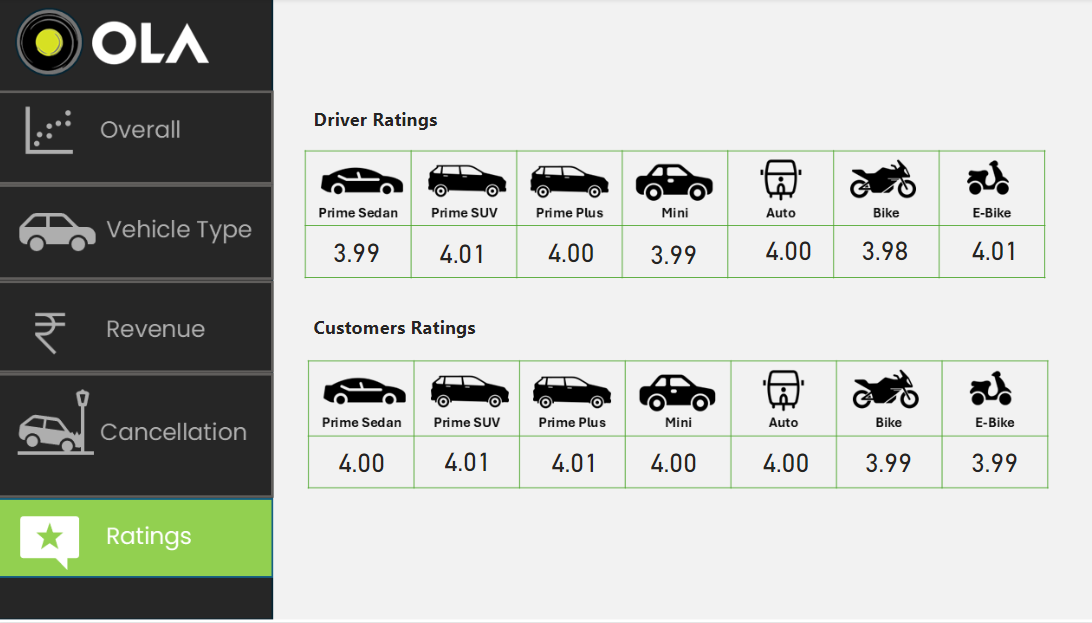

The page's visual inventory and layout, read from the dashboard file:
{"tool":"powerbi","page":{"name":"Ratings","canvas":[1280,720],"ordinal":4},"visuals":[{"type":"actionButton","box":[0,106.8,323.9,108.6],"z":0},{"type":"actionButton","box":[0,215.4,323.9,110.3],"z":1000},{"type":"actionButton","box":[0,325.7,323.9,106.8],"z":2000},{"type":"actionButton","box":[0,432.5,323.9,144.2],"z":3000},{"type":"card","fields":{"Values":["Avg(July.Driver_Ratings)"]},"box":[364.3,263.3,112.2,62.2],"z":4000},{"type":"card","fields":{"Values":["Avg(July.Driver_Ratings)"]},"box":[1101,256.1,111.2,69.4],"z":5000},{"type":"card","fields":{"Values":["Avg(July.Driver_Ratings)"]},"box":[611.2,263.3,111.2,62.2],"z":6000},{"type":"card","fields":{"Values":["Avg(July.Driver_Ratings)"]},"box":[485.7,270.4,112.2,50],"z":7000},{"type":"card","fields":{"Values":["Avg(July.Driver_Ratings)"]},"box":[730.6,270.4,111.2,52],"z":8000},{"type":"card","fields":{"Values":["Avg(July.Driver_Ratings)"]},"box":[862.2,256.1,111.2,69.4],"z":9000},{"type":"card","fields":{"Values":["Avg(July.Driver_Ratings)"]},"box":[973.5,256.1,111.2,69.4],"z":10000},{"type":"textbox","box":[364.5,119.4,177.4,53.2],"z":11000},{"type":"textbox","box":[364.5,359.7,233.9,51.6],"z":12000},{"type":"card","fields":{"Values":["Avg(July.Customer_Rating)"]},"box":[364.5,504.8,121,59.7],"z":13000},{"type":"card","fields":{"Values":["Avg(July.Driver_Ratings)"]},"box":[485.5,504.8,125.8,59.7],"z":14000},{"type":"card","fields":{"Values":["Avg(July.Customer_Rating)"]},"box":[611.3,504.8,119.4,59.7],"z":15000},{"type":"card","fields":{"Values":["Avg(July.Customer_Rating)"]},"box":[974.2,504.8,119.4,59.7],"z":16000},{"type":"card","fields":{"Values":["Avg(July.Customer_Rating)"]},"box":[854.8,504.8,119.4,59.7],"z":17000},{"type":"card","fields":{"Values":["Avg(July.Customer_Rating)"]},"box":[730.6,504.8,111.3,59.7],"z":18000},{"type":"card","fields":{"Values":["Avg(July.Customer_Rating)"]},"box":[1096.8,504.8,119.4,59.7],"z":19000}]}

Visuals, with their boxes on the page's 1280x720 design canvas (x1, y1, x2, y2). These are canvas units, not pixel positions in the 1092x623 screenshot, which may show the page scaled, cropped or inside an application window:
actionButton: rect(0, 107, 324, 215)
actionButton: rect(0, 215, 324, 326)
actionButton: rect(0, 326, 324, 432)
actionButton: rect(0, 432, 324, 577)
card - Avg(July.Driver_Ratings): rect(364, 263, 476, 326)
card - Avg(July.Driver_Ratings): rect(1101, 256, 1212, 326)
card - Avg(July.Driver_Ratings): rect(611, 263, 722, 326)
card - Avg(July.Driver_Ratings): rect(486, 270, 598, 320)
card - Avg(July.Driver_Ratings): rect(731, 270, 842, 322)
card - Avg(July.Driver_Ratings): rect(862, 256, 973, 326)
card - Avg(July.Driver_Ratings): rect(974, 256, 1085, 326)
textbox: rect(364, 119, 542, 173)
textbox: rect(364, 360, 598, 411)
card - Avg(July.Customer_Rating): rect(364, 505, 486, 564)
card - Avg(July.Driver_Ratings): rect(486, 505, 611, 564)
card - Avg(July.Customer_Rating): rect(611, 505, 731, 564)
card - Avg(July.Customer_Rating): rect(974, 505, 1094, 564)
card - Avg(July.Customer_Rating): rect(855, 505, 974, 564)
card - Avg(July.Customer_Rating): rect(731, 505, 842, 564)
card - Avg(July.Customer_Rating): rect(1097, 505, 1216, 564)
